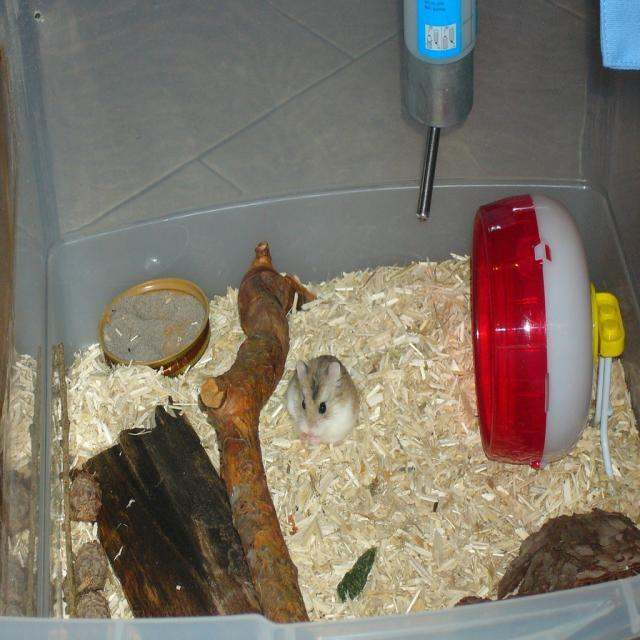rat: (281, 352, 361, 440)
